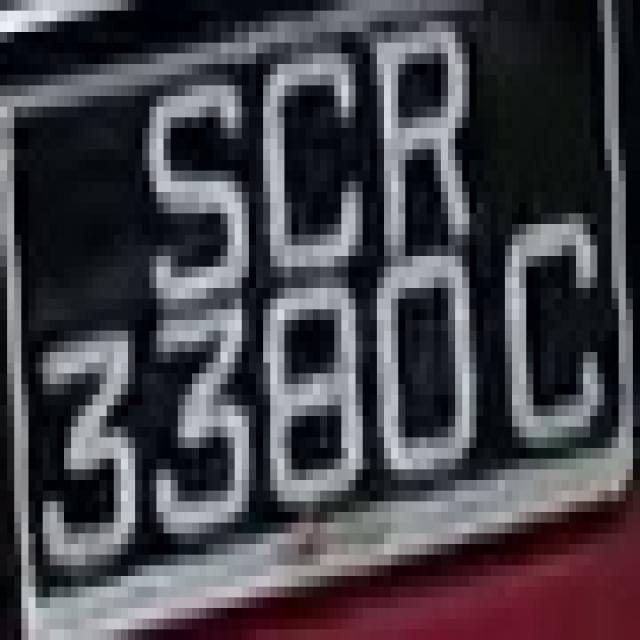0: (370, 224, 490, 491)
3: (14, 288, 150, 608), (135, 277, 263, 544)
8: (242, 267, 384, 533)
C: (476, 181, 612, 459), (242, 21, 362, 331)
R: (356, 11, 484, 245)
S: (128, 54, 256, 342)
